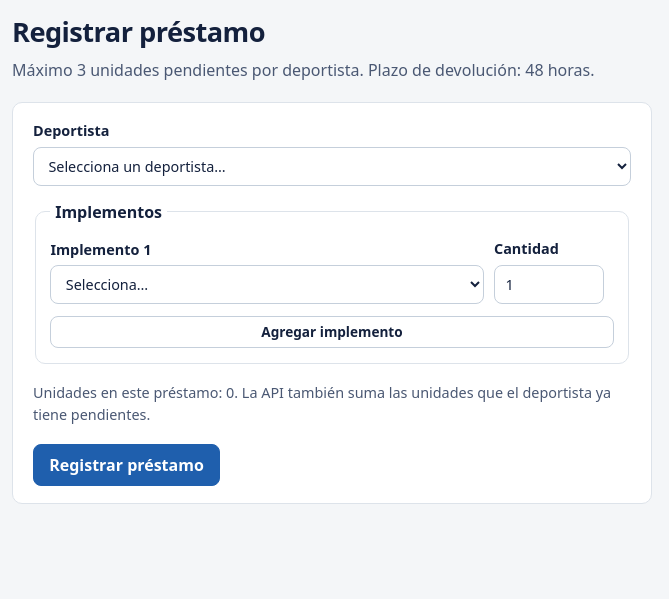
loan registration (HU-06) › shows the business rule returned by the API
Step 1. Select "Laura Gómez — 1075" in the dropdown labelled "Deportista" → (332, 166), box x1=33 y1=147 x2=631 y2=186
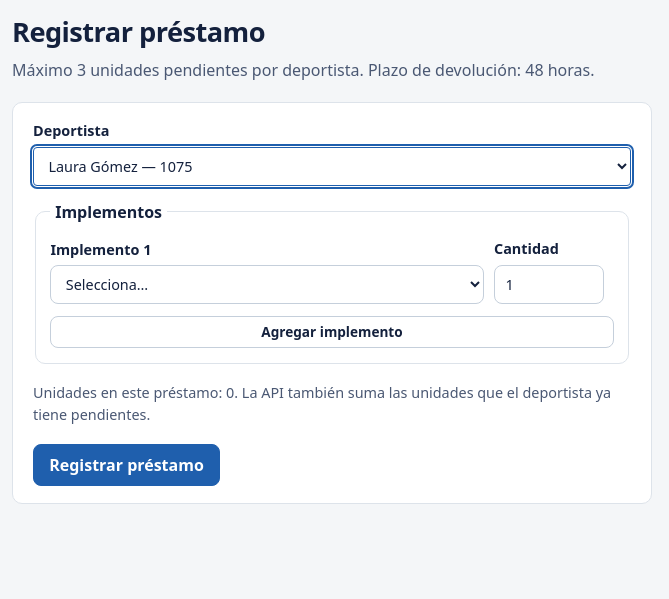
Step 2. Select "BAL-001 (Balones) — 4 disponible(s)" in the dropdown labelled "Implemento 1" → (267, 285), box x1=50 y1=265 x2=484 y2=304
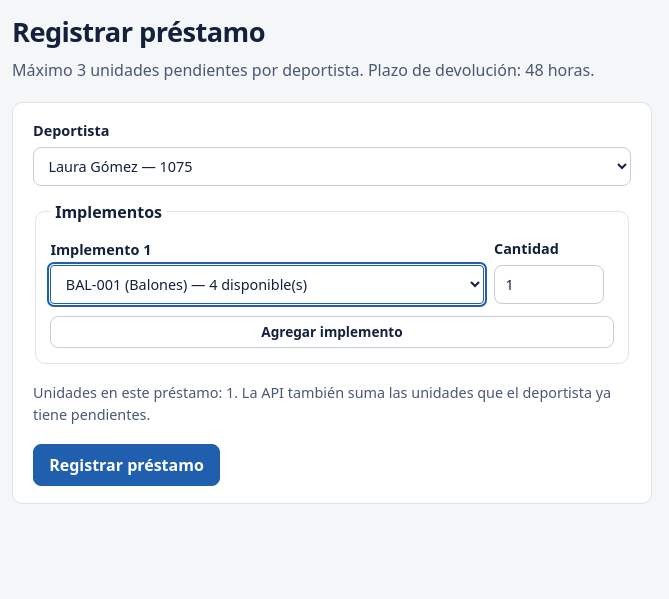
Step 3. Click the button "Registrar préstamo" → (126, 465), box x1=33 y1=444 x2=220 y2=486
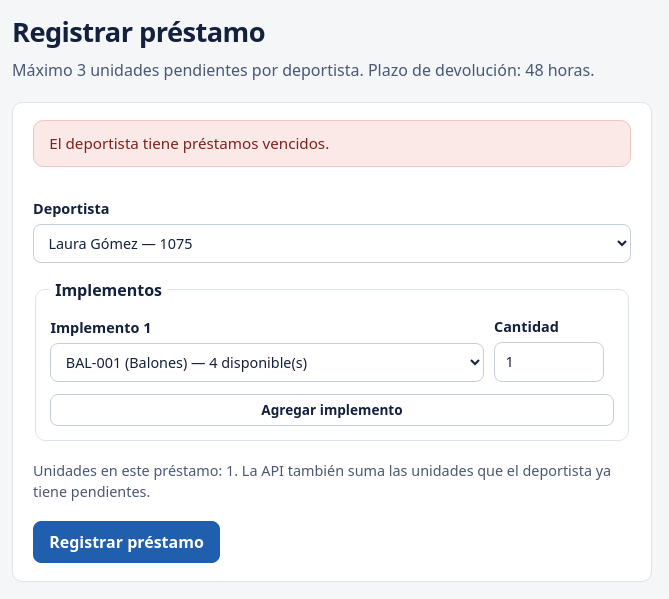
Expected: the text "El deportista tiene préstamos vencidos." is shown, x1=33 y1=120 x2=631 y2=167
